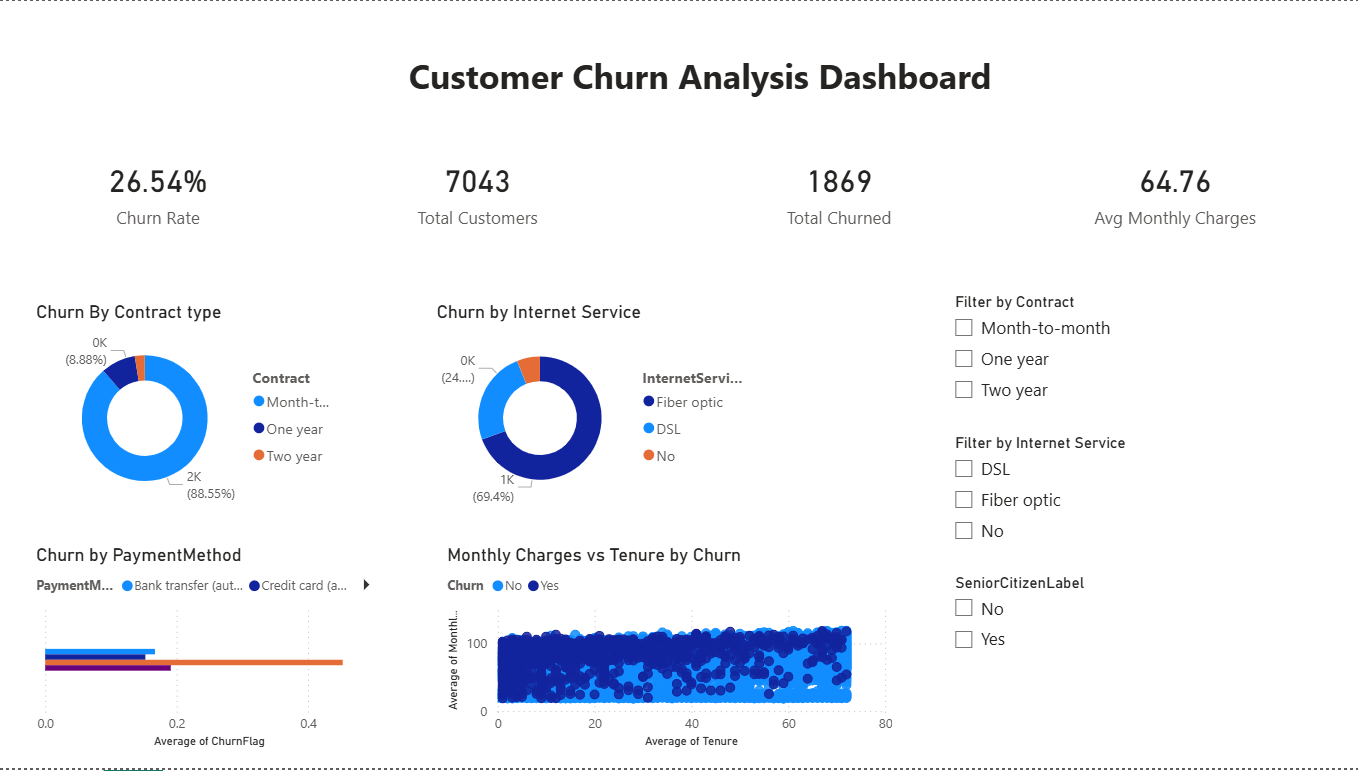

The page's visual inventory and layout, read from the dashboard file:
{"tool":"powerbi","page":{"name":"Page 1","canvas":[1280,720],"ordinal":0},"visuals":[{"type":"textbox","box":[282.5,0,752.5,281.2],"z":0},{"type":"card","title":"Churn Rate","fields":{"Values":["Avg(Data.ChurnFlag)"]},"box":[0,111.2,300,133.8],"z":1000},{"type":"card","fields":{"Values":["CountNonNull(Data.ChurnFlag)"]},"box":[300,111.1,300,133.3],"z":1001},{"type":"card","fields":{"Values":["Sum(Data.ChurnFlag)"]},"box":[640,111.1,300,133.3],"z":1002},{"type":"card","fields":{"Values":["Avg(Data.MonthlyCharges)"]},"box":[955.6,111.1,300,133.3],"z":1003},{"type":"donutChart","title":"Churn By Contract type ","fields":{"Category":["Data.Contract"],"Y":["Sum(Data.ChurnFlag)"]},"box":[31.1,281.1,300,200],"z":1004},{"type":"donutChart","title":"Churn by Internet Service","fields":{"Category":["Data.InternetService"],"Y":["Sum(Data.ChurnFlag)"]},"box":[406.7,281.1,300,200],"z":1005},{"type":"clusteredBarChart","title":"Churn by PaymentMethod","fields":{"Series":["Data.PaymentMethod"],"Y":["Avg(Data.ChurnFlag)"]},"box":[31.1,510,334.4,195.6],"z":1006},{"type":"scatterChart","title":"Monthly Charges vs Tenure by Churn","fields":{"X":["Avg(Data.Tenure)"],"Y":["Avg(Data.MonthlyCharges)"],"Series":["Data.Churn"],"Category":["Data.CustomerID"]},"box":[416.7,510,427.8,195.6],"z":1007},{"type":"slicer","fields":{"Values":["Data.Contract"]},"box":[885.6,268.9,181.1,123.3],"z":1008},{"type":"slicer","fields":{"Values":["Data.InternetService"]},"box":[885.6,401.1,231.1,123.3],"z":1009},{"type":"slicer","fields":{"Values":["Data.SeniorCitizenLabel"]},"box":[885.6,532.2,188.9,150],"z":1010}]}

Visuals, with their boxes in screenshot pixels (x1, y1, x2, y2), scaled from the page's 1280x720 canvas onto the 1358x771 screenshot:
textbox: 300:0:1098:301
"Churn Rate" card: 0:119:318:262
card - CountNonNull(Data.ChurnFlag): 318:119:637:262
card - Sum(Data.ChurnFlag): 679:119:997:262
card - Avg(Data.MonthlyCharges): 1014:119:1332:262
"Churn By Contract type " donutChart: 33:301:351:515
"Churn by Internet Service" donutChart: 431:301:750:515
"Churn by PaymentMethod" clusteredBarChart: 33:546:388:756
"Monthly Charges vs Tenure by Churn" scatterChart: 442:546:896:756
slicer - Data.Contract: 940:288:1132:420
slicer - Data.InternetService: 940:430:1185:562
slicer - Data.SeniorCitizenLabel: 940:570:1140:731
